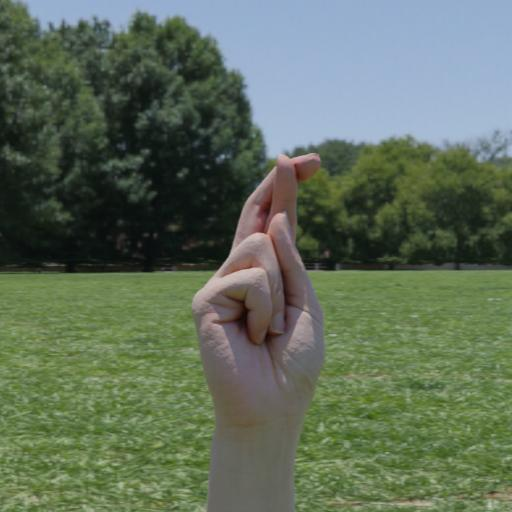R: (174, 136, 346, 512)
